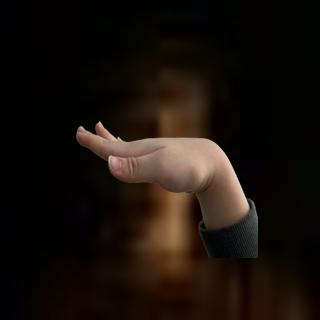Wait: (64, 110, 247, 210)
